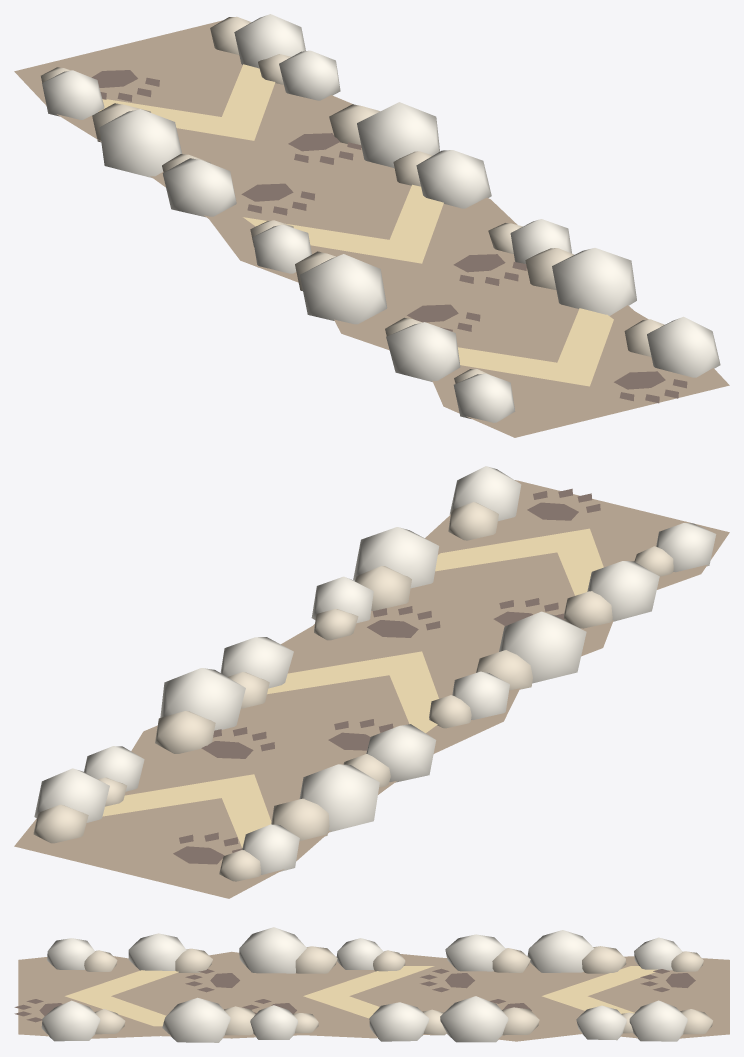
The model's file is prop_ulgra_stampede.glb.
The picture shows the model from 3 angles, top to bottom: view 1: azimuth 30°, elevation 25°; view 2: azimuth 150°, elevation 25°; view 3: azimuth 270°, elevation 25°; orthographic projection. The views are drawn at different scales.
Parts seen in each view (by area): view 1: prop_ulgra_stampede; view 2: prop_ulgra_stampede; view 3: prop_ulgra_stampede.
Part boxes in pixels (x1=…): prop_ulgra_stampede: x1=14, y1=14, x2=729, y2=437; prop_ulgra_stampede: x1=14, y1=466, x2=729, y2=898; prop_ulgra_stampede: x1=14, y1=927, x2=729, y2=1042.
Size of the model in its own units: 3.12 by 0.5747 by 10.06.
